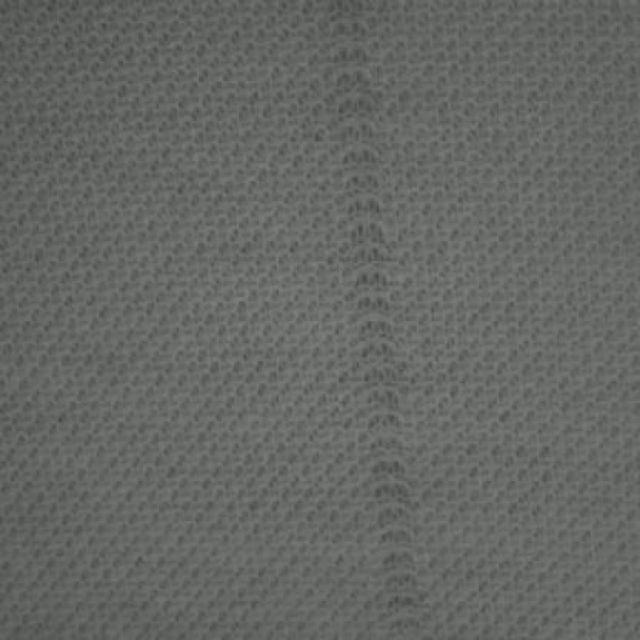Line: (329, 1, 425, 638)
